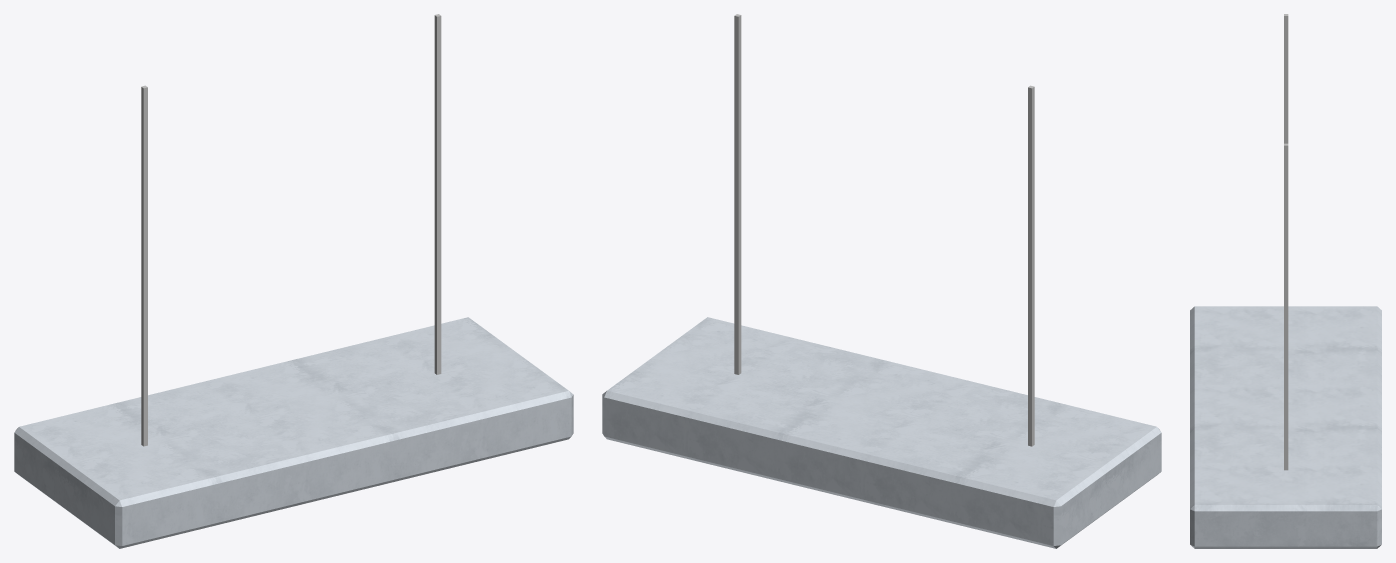
Rendered from SM_OfficeLamp.fbx.
3 views of the same model, side by side, from view 1: azimuth 30°, elevation 25°; view 2: azimuth 150°, elevation 25°; view 3: azimuth 270°, elevation 25° (orthographic). The views are drawn at different scales.
Parts seen in each view (by area): view 1: SM_OfficeLamp_LOD0; view 2: SM_OfficeLamp_LOD0; view 3: SM_OfficeLamp_LOD0.
Boxes of the visible parts, x1=… form: SM_OfficeLamp_LOD0: x1=14, y1=14, x2=573, y2=548; SM_OfficeLamp_LOD0: x1=602, y1=14, x2=1161, y2=548; SM_OfficeLamp_LOD0: x1=1190, y1=14, x2=1381, y2=548.
Bounding box in the file's own units: 500 × 200 × 424.
3 materials, 1 textured.
